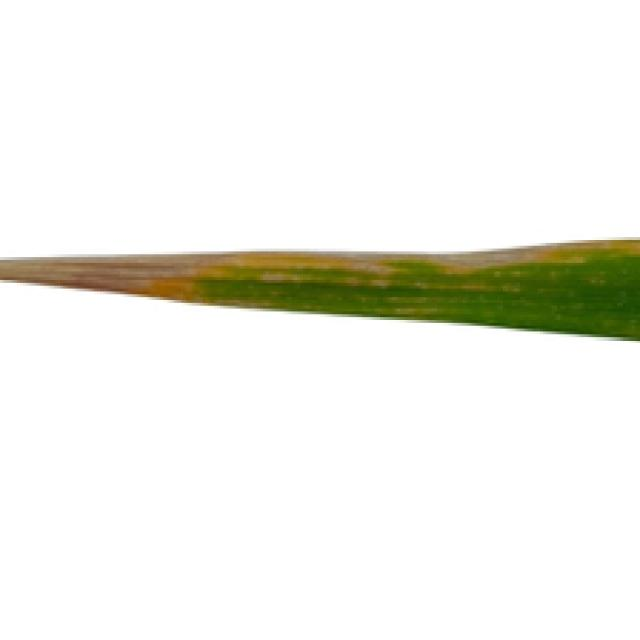Rice___Bacterial_Leaf_Blight: (0, 238, 637, 342)
